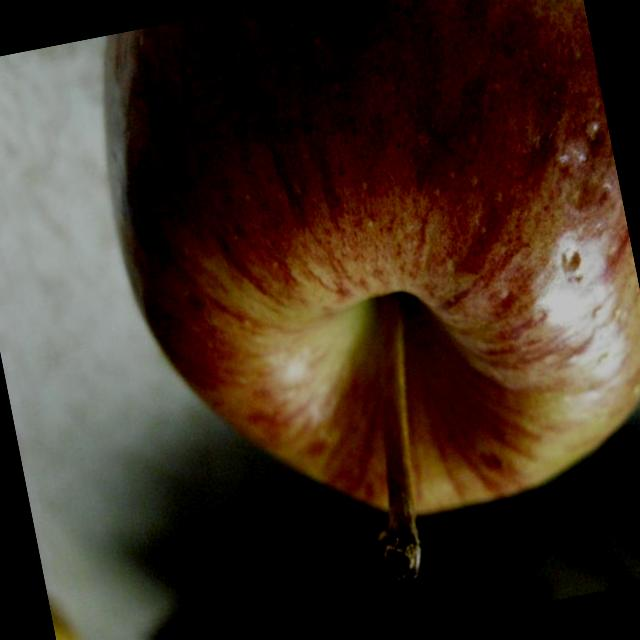Apple: (80, 0, 640, 624)
